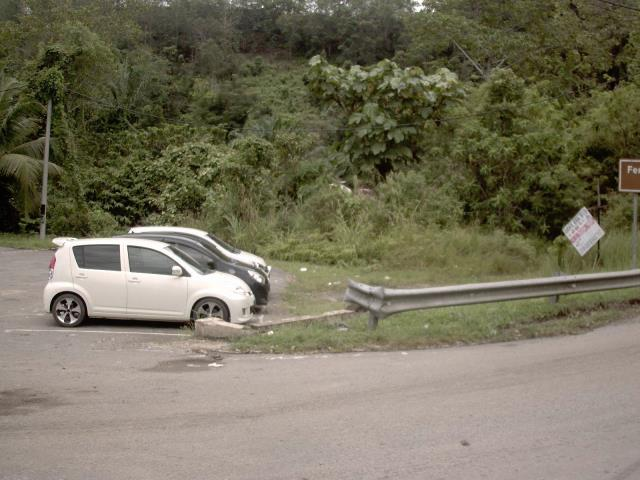ads_sign: (556, 199, 613, 262)
